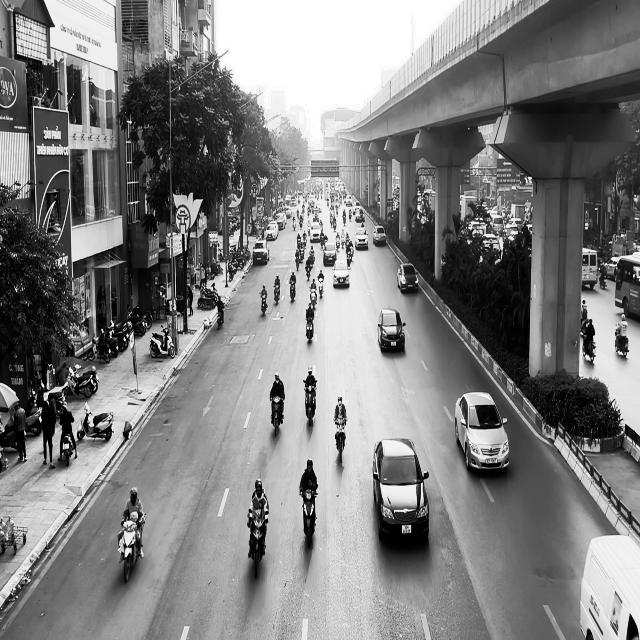bus: (614, 252, 640, 319)
car: (579, 534, 640, 639), (372, 437, 429, 541), (455, 391, 509, 472), (377, 307, 406, 351), (397, 262, 419, 292), (332, 259, 350, 287), (372, 225, 386, 246)
motorbike: (118, 512, 147, 583), (76, 402, 114, 440), (247, 512, 268, 578), (299, 485, 318, 548), (333, 417, 347, 462), (303, 380, 316, 426), (270, 396, 284, 435), (580, 330, 596, 362), (614, 324, 629, 356), (62, 434, 73, 466), (305, 312, 314, 342), (259, 291, 267, 316), (216, 304, 224, 329), (289, 279, 296, 302), (317, 278, 324, 298), (273, 284, 280, 304)
